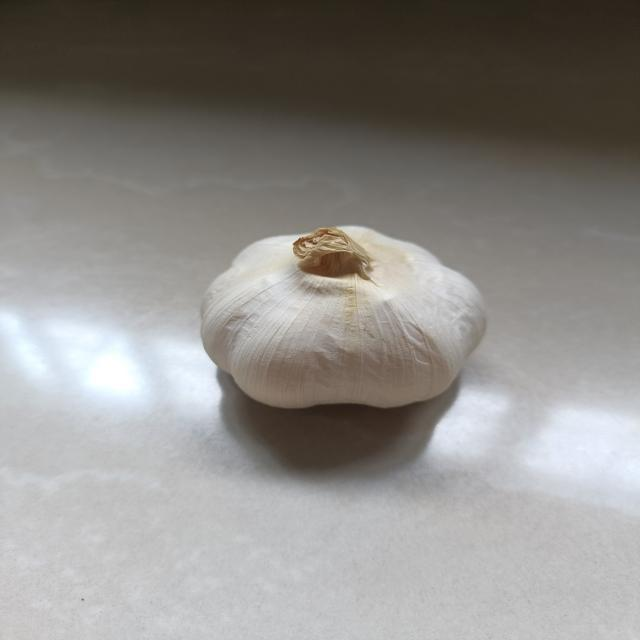garlic: (187, 220, 497, 418)
